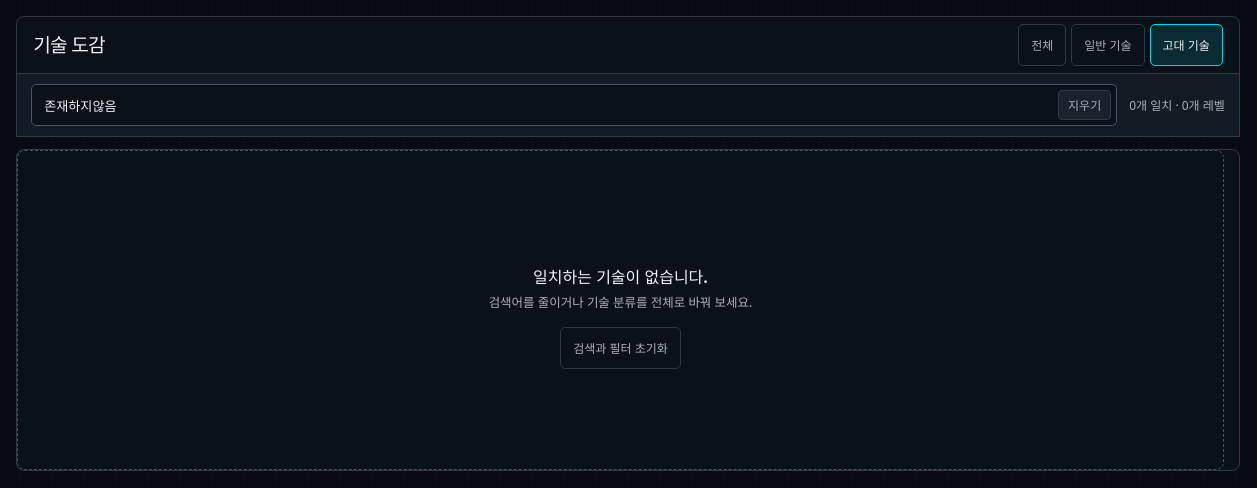
TechnologyBoard › recovers from an empty state without leaving stale filters
Expected: the heading "일치하는 기술이 없습니다." is shown, [533,264,708,288]
What coordinates should you click on to do the following:
click the button "검색과 필터 초기화"
I would click on:
 (620, 348)
Its box is [560,326,681,368].
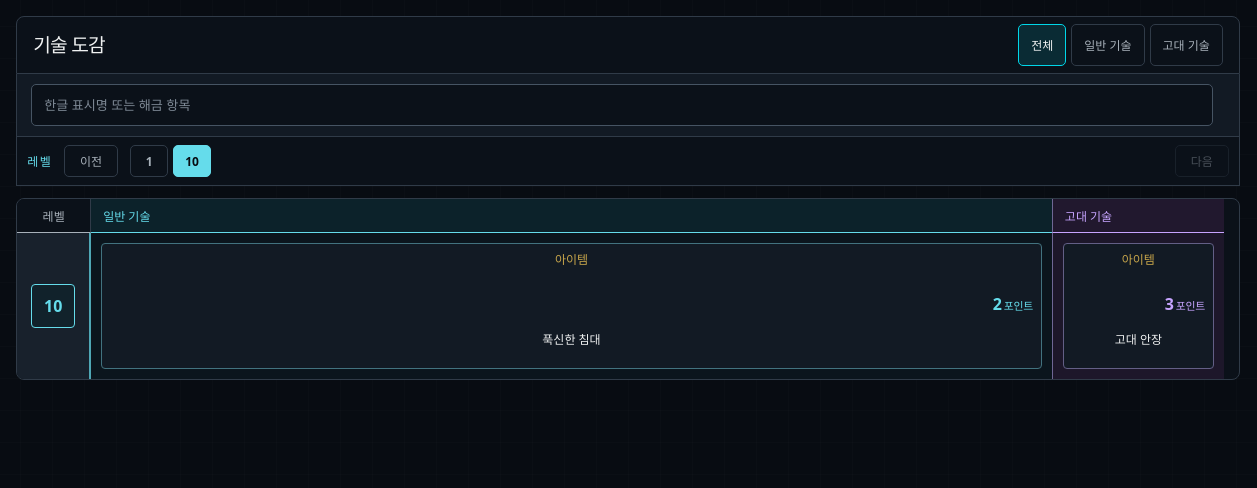
Result: the text "푹신한 침대" is shown at [542,332,601,347]
